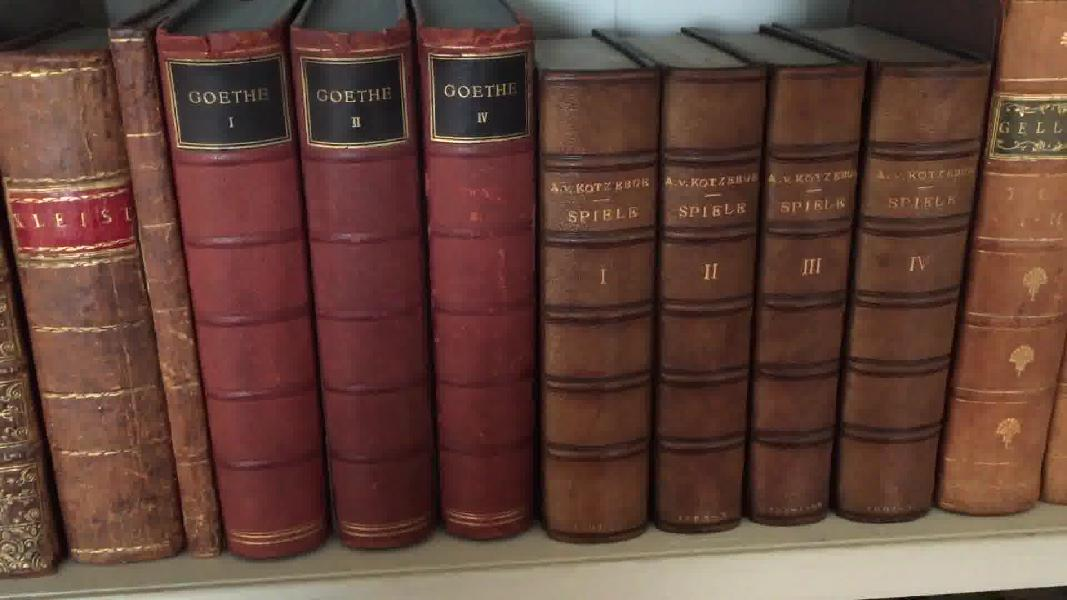Aa6-10: (105, 24, 229, 559)
Aa6-11_13: (155, 24, 550, 562)
Aa6-14_17: (531, 63, 970, 529)
Aa6-9: (1, 42, 186, 567)
